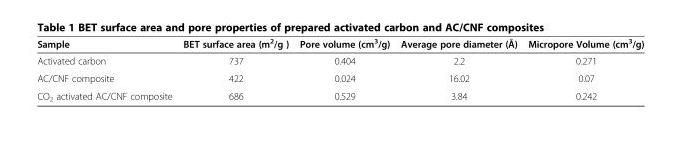table: (36, 36, 643, 102)
table column: (36, 36, 177, 102), (394, 36, 522, 102), (522, 36, 643, 102), (177, 36, 293, 102), (293, 36, 394, 102)
table column header: (36, 36, 643, 52)
table row: (36, 52, 643, 69), (36, 69, 643, 86), (36, 36, 643, 52), (36, 86, 643, 102)
